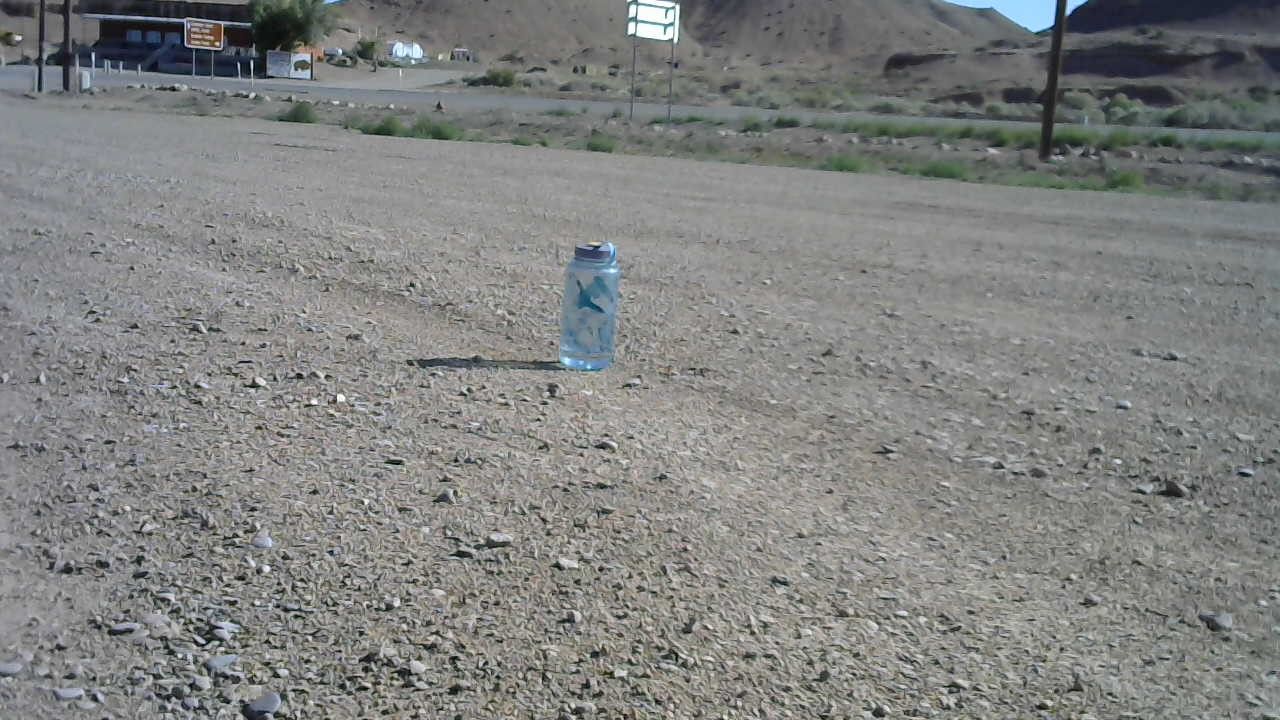bottle: (555, 234, 628, 375)
